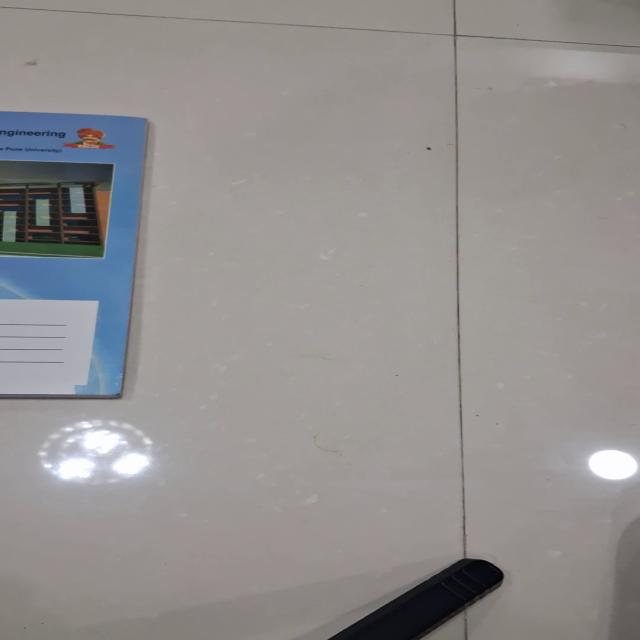paper: (1, 111, 148, 398)
